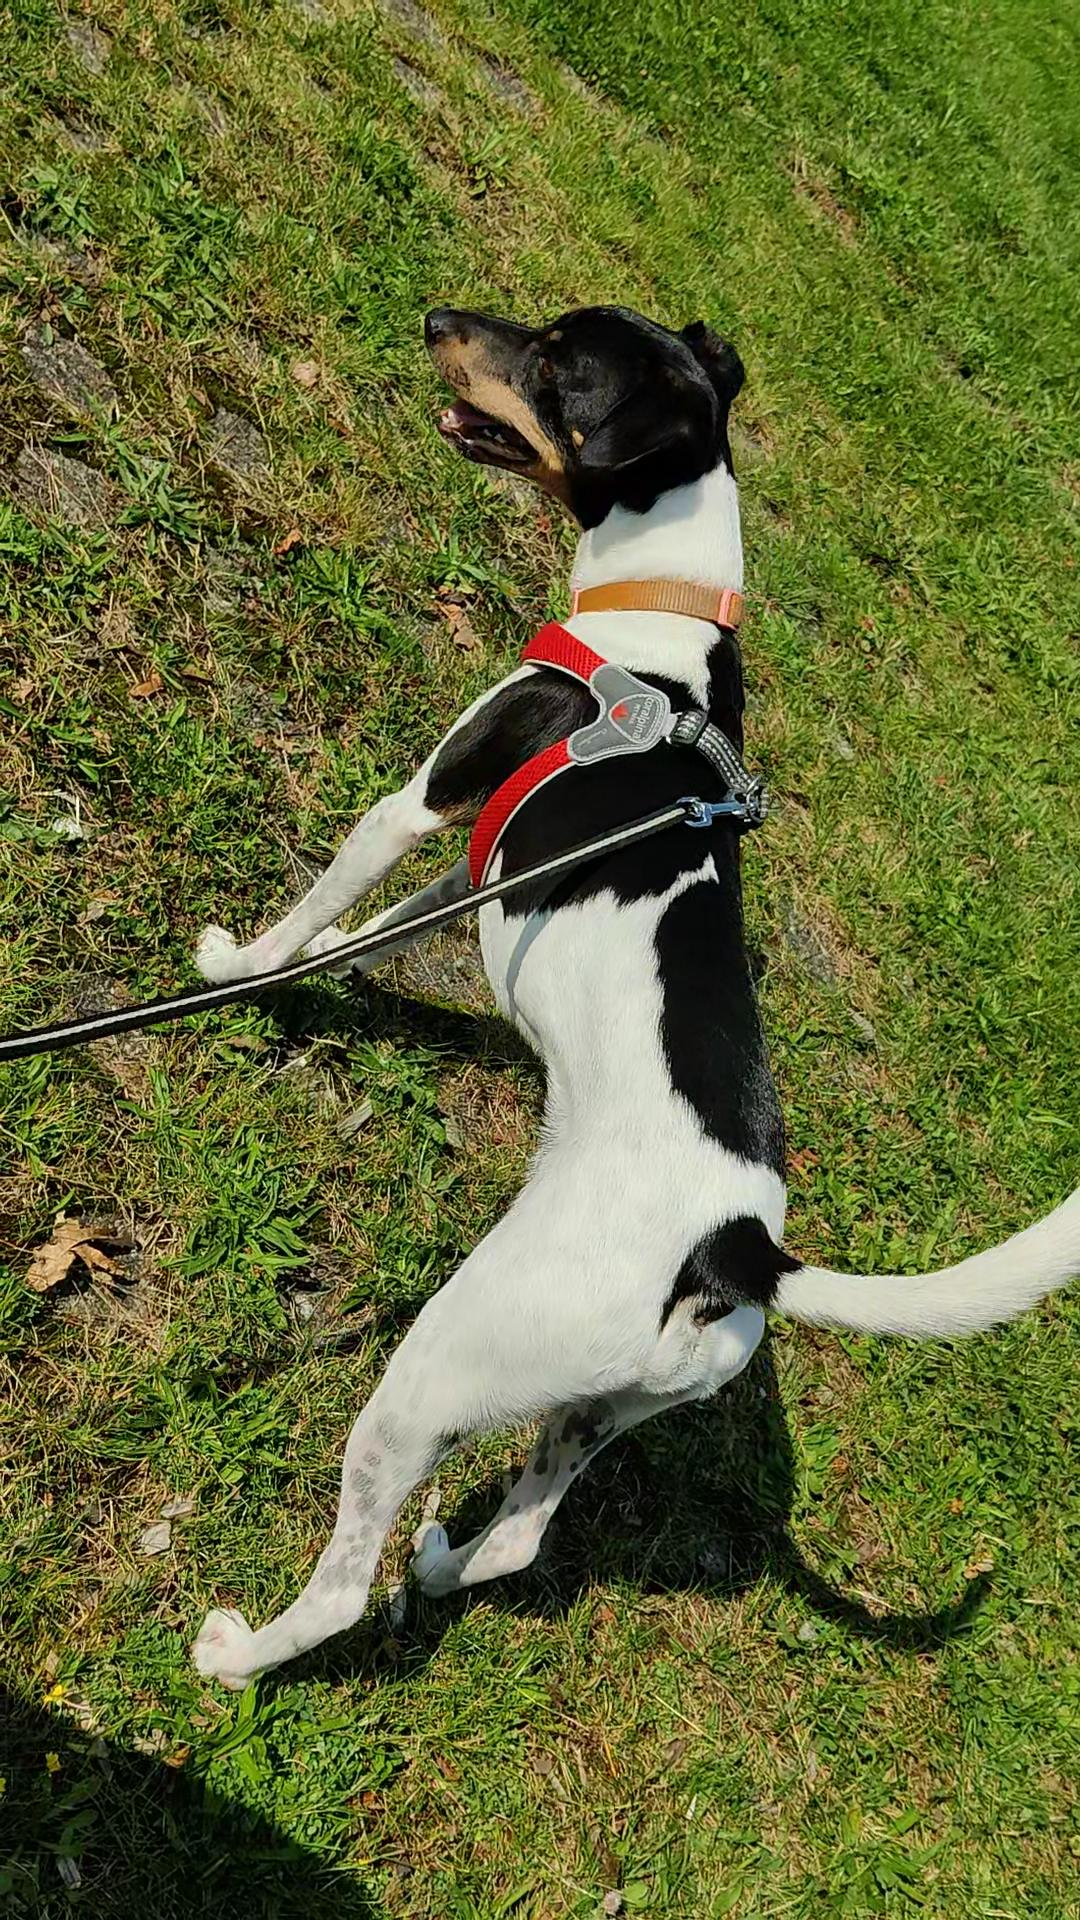Dog: (158, 281, 1079, 1696)
